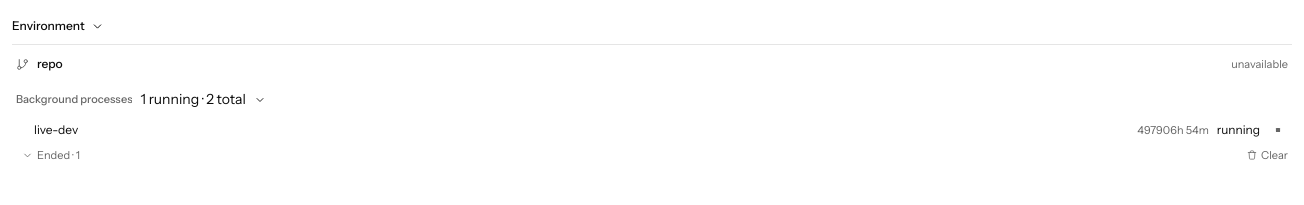
Scenario: groups ended processes behind a collapsed toggle and clears them
The width and height of the screenshot is (1304, 205).
// Expanding the group reveals it.
Click the button with aria-label "Toggle ended processes".
click(56, 155)  # box x1=22 y1=145 x2=1237 y2=166
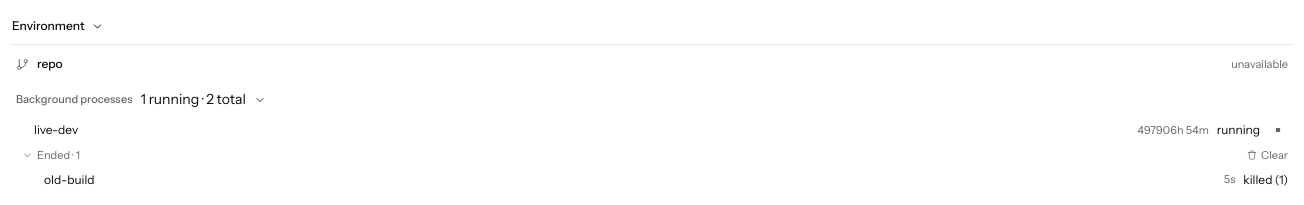
Result: the element named "Background processes" shows "old-build" at x1=26 y1=170 x2=1288 y2=188
Click the button with aria-label "Clear ended processes".
click(1268, 155)  # box x1=1243 y1=145 x2=1292 y2=165
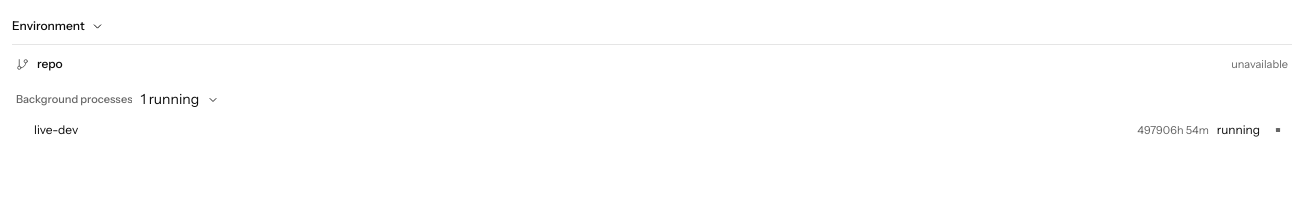
Expected: the element named "Background processes" shows "live-dev", x1=26 y1=121 x2=1260 y2=139
Result: the button named "Background processes" no longer shows "Ended · 1"
Result: the button named "Background processes" no longer shows "old-build"
